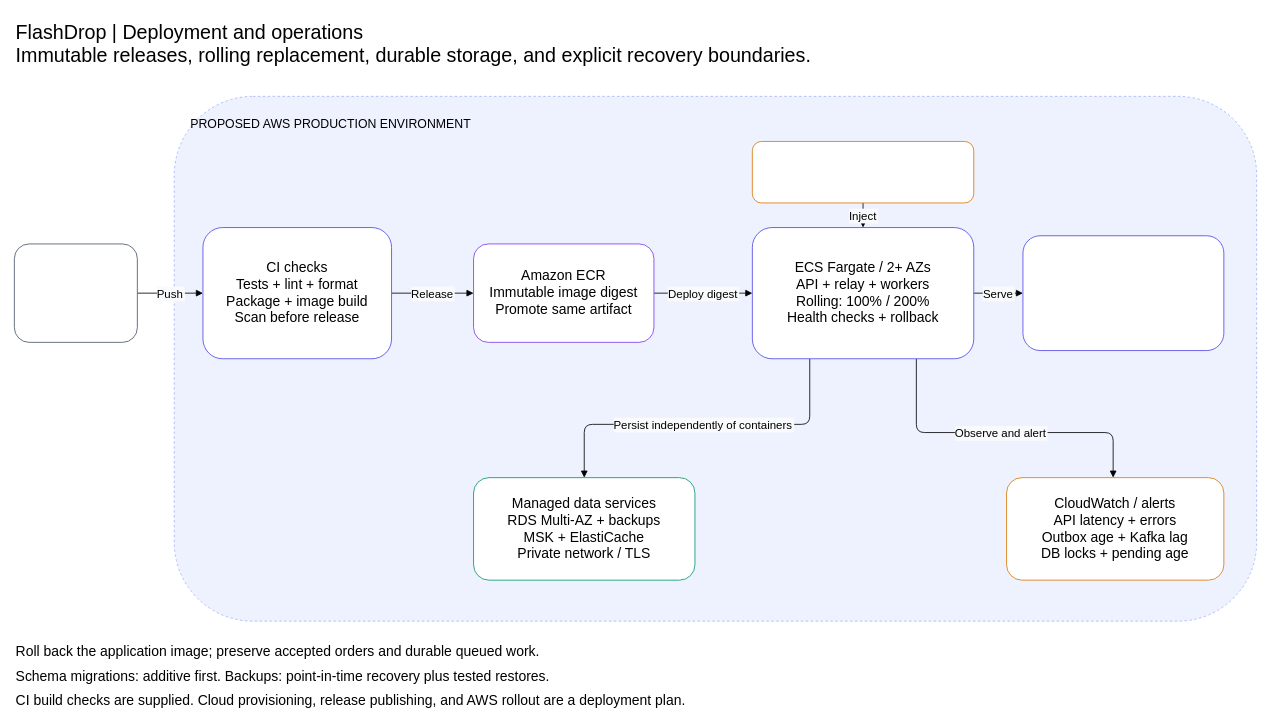
This 1271x725 diagram has some shape labels left out. Here are the shapes that lost their labels. From the top down, the centre of each, then its label:
(863,172): Secrets Manager + IAM Runtime secrets / OIDC
(75,292): Developer Push / review Commit SHA
(1123,293): Gateway + ALB Authenticate + throttle Drain old API tasks Send to healthy tasks
